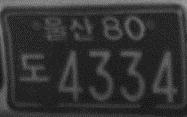0: (124, 14, 144, 41)
3: (118, 49, 145, 102), (87, 49, 113, 101)
4: (55, 49, 82, 101), (152, 51, 177, 103)
8: (101, 15, 122, 41)
도: (18, 51, 50, 84)
울산_O: (42, 16, 96, 43)
